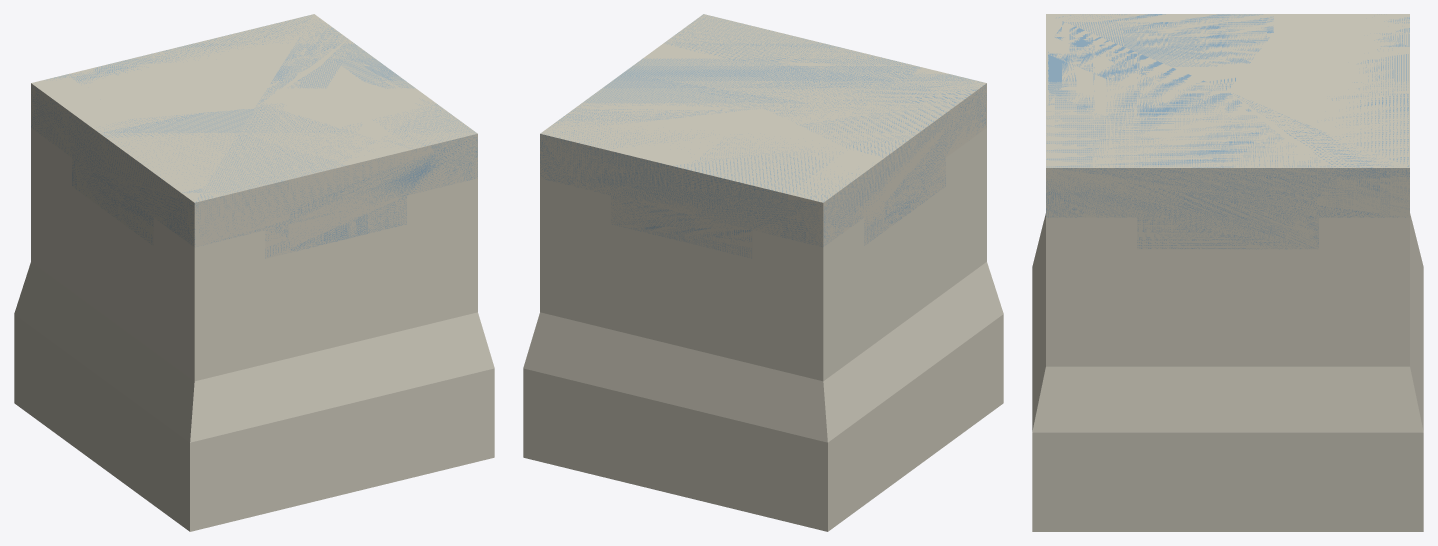
The model's file is towerSquareBaseColor.fbx.
3 views of the same model, side by side, from view 1: azimuth 30°, elevation 25°; view 2: azimuth 150°, elevation 25°; view 3: azimuth 270°, elevation 25° (orthographic). The views are drawn at different scales.
Visible parts, largest first — view 1: towerSquareBaseColor, towerSquareBaseColor_cell.007, towerSquareBaseColor_cell, towerSquareBaseColor_cell.006, towerSquareBaseColor_cell.002, towerSquareBaseColor_cell.005, towerSquareBaseColor_cell.003, towerSquareBaseColor_cell.001; view 2: towerSquareBaseColor, towerSquareBaseColor_cell.007, towerSquareBaseColor_cell.002, towerSquareBaseColor_cell.004, towerSquareBaseColor_cell.003, towerSquareBaseColor_cell.005; view 3: towerSquareBaseColor, towerSquareBaseColor_cell.004, towerSquareBaseColor_cell.002, towerSquareBaseColor_cell, towerSquareBaseColor_cell.001, towerSquareBaseColor_cell.006, towerSquareBaseColor_cell.003, towerSquareBaseColor_cell.007.
Part boxes in pixels (x1=…): towerSquareBaseColor: x1=14, y1=14, x2=491, y2=531; towerSquareBaseColor_cell.007: x1=63, y1=200, x2=312, y2=531; towerSquareBaseColor_cell: x1=289, y1=145, x2=477, y2=407; towerSquareBaseColor_cell.006: x1=240, y1=315, x2=494, y2=519; towerSquareBaseColor_cell.002: x1=78, y1=15, x2=347, y2=119; towerSquareBaseColor_cell.005: x1=92, y1=128, x2=288, y2=261; towerSquareBaseColor_cell.003: x1=31, y1=77, x2=127, y2=127; towerSquareBaseColor_cell.001: x1=430, y1=134, x2=477, y2=216; towerSquareBaseColor: x1=523, y1=14, x2=1003, y2=531; towerSquareBaseColor_cell.007: x1=880, y1=166, x2=1003, y2=481; towerSquareBaseColor_cell.002: x1=540, y1=105, x2=848, y2=275; towerSquareBaseColor_cell.004: x1=540, y1=142, x2=612, y2=265; towerSquareBaseColor_cell.003: x1=788, y1=149, x2=883, y2=280; towerSquareBaseColor_cell.005: x1=884, y1=105, x2=966, y2=216; towerSquareBaseColor: x1=1032, y1=14, x2=1423, y2=531; towerSquareBaseColor_cell.004: x1=1194, y1=177, x2=1417, y2=524; towerSquareBaseColor_cell.002: x1=1228, y1=33, x2=1409, y2=180; towerSquareBaseColor_cell: x1=1033, y1=100, x2=1264, y2=366; towerSquareBaseColor_cell.001: x1=1046, y1=168, x2=1332, y2=260; towerSquareBaseColor_cell.006: x1=1032, y1=329, x2=1242, y2=531; towerSquareBaseColor_cell.003: x1=1273, y1=14, x2=1409, y2=33; towerSquareBaseColor_cell.007: x1=1032, y1=213, x2=1045, y2=330.
Size of the model in its own units: 1000 by 1010 by 1000.
